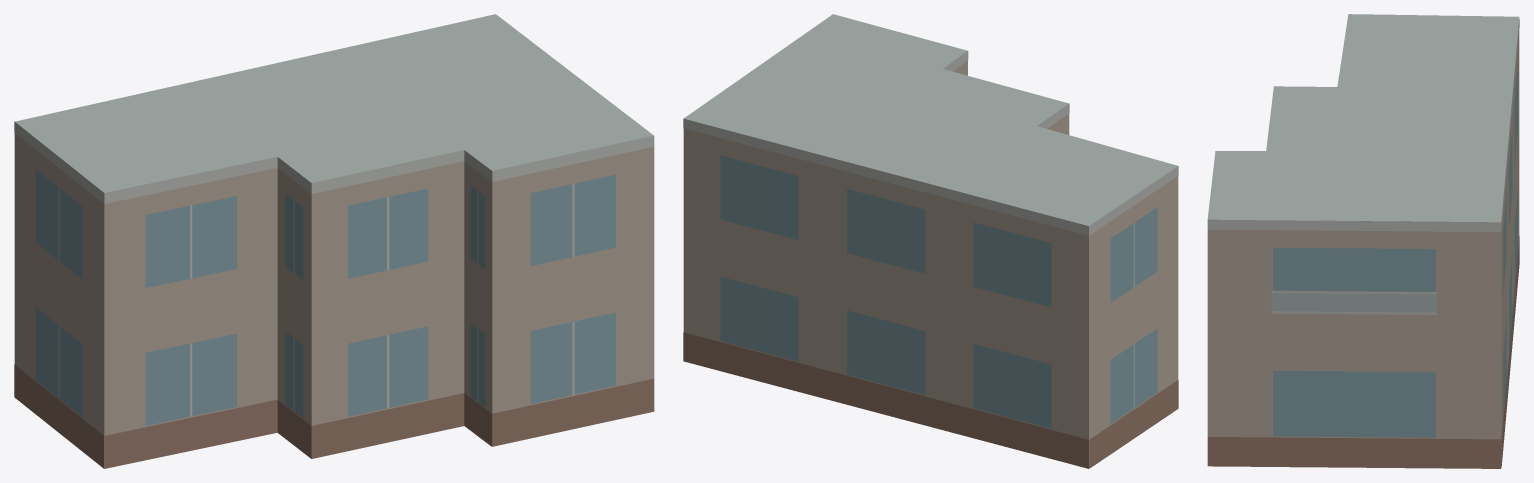
File: survey-upis-32711421.glb
The picture shows the model from 3 angles, left to right: view 1: azimuth 30°, elevation 25°; view 2: azimuth 150°, elevation 25°; view 3: azimuth 270°, elevation 25°; orthographic projection. The views are drawn at different scales.
Parts seen in each view (by area): view 1: survey-upis-32711421.tmp; view 2: survey-upis-32711421.tmp; view 3: survey-upis-32711421.tmp.
Part boxes in pixels (box(x1,y1,x2,y2)): survey-upis-32711421.tmp: box(14, 14, 654, 468); survey-upis-32711421.tmp: box(683, 14, 1178, 468); survey-upis-32711421.tmp: box(1207, 14, 1519, 468).
Bounding box in the file's own units: 11.06 × 6.1 × 7.
